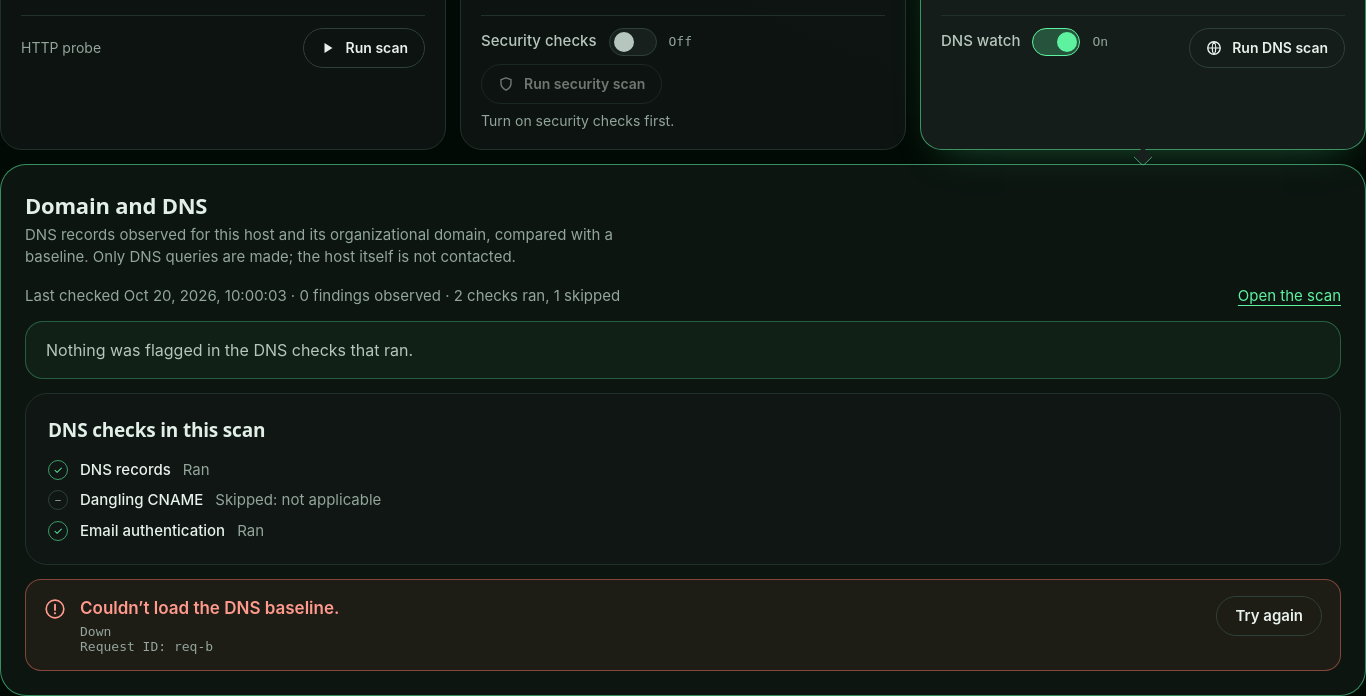
Test: Baseline and recent changes › keeps the result when only the baseline request fails, and retries it on its own
(page scrolled)
Expected: the text "Couldn’t load the DNS baseline." is shown, left=80, top=596, right=339, bottom=622
Expected: the text "Request ID: req-b" is shown, left=80, top=639, right=213, bottom=654
Click the button "Try again": (1269, 616) left=1216, top=596, right=1322, bottom=636
(page scrolled)
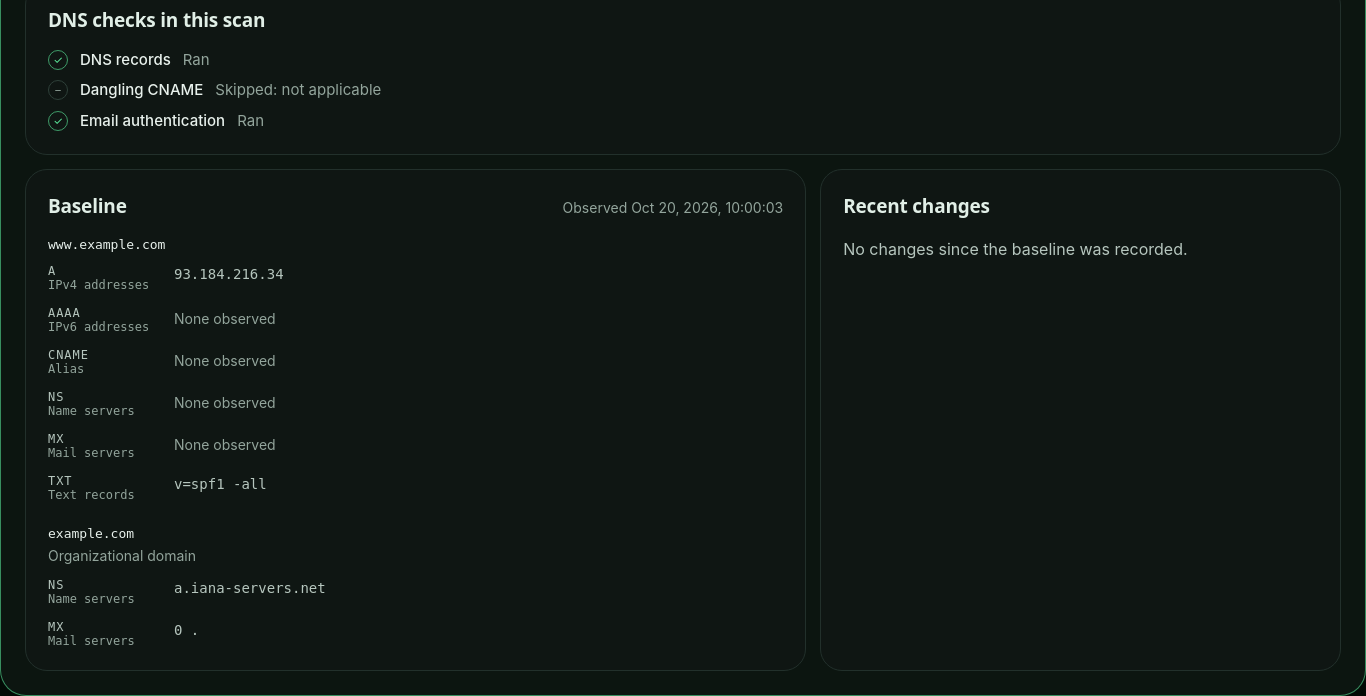
Expected: the element "Baseline" is shown, left=25, top=169, right=806, bottom=671
